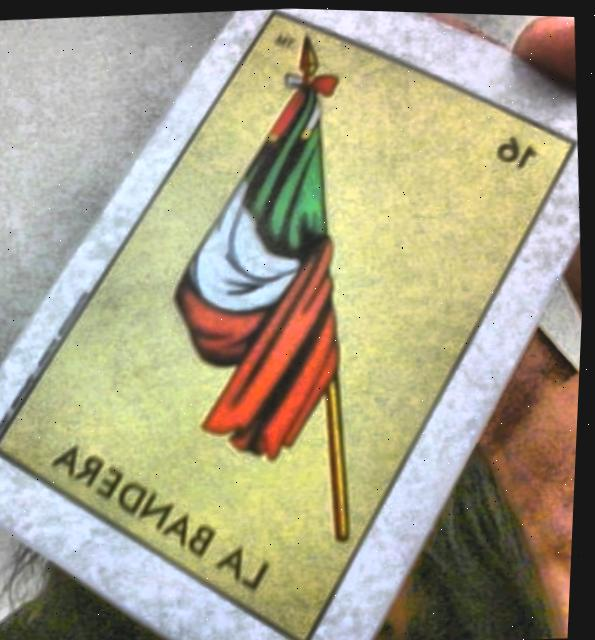La Bandera: (1, 11, 571, 640)
